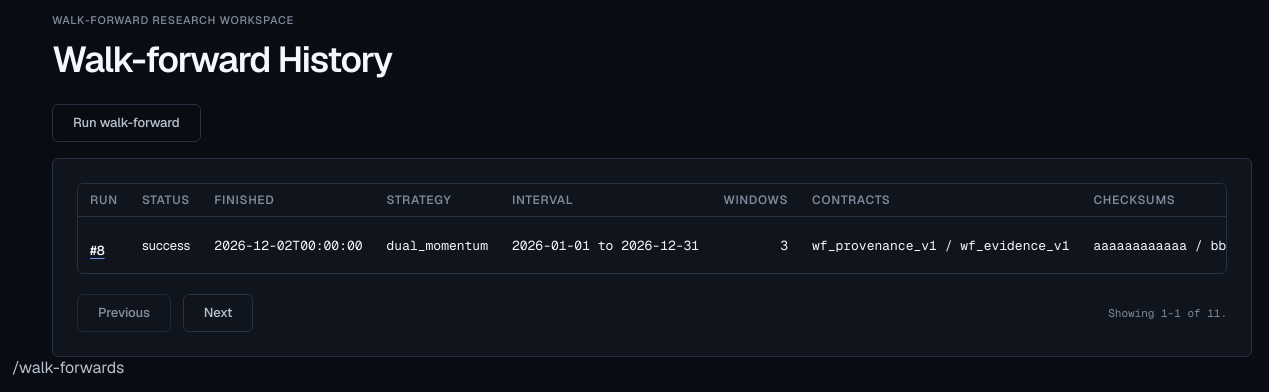
it: shows an explicit error and suppresses stale results after a failed request
Expected: the link "#8" is shown, [90,241,104,261]
Step 1. Click the button "Next" → x=218, y=313, box [183,294,253,332]
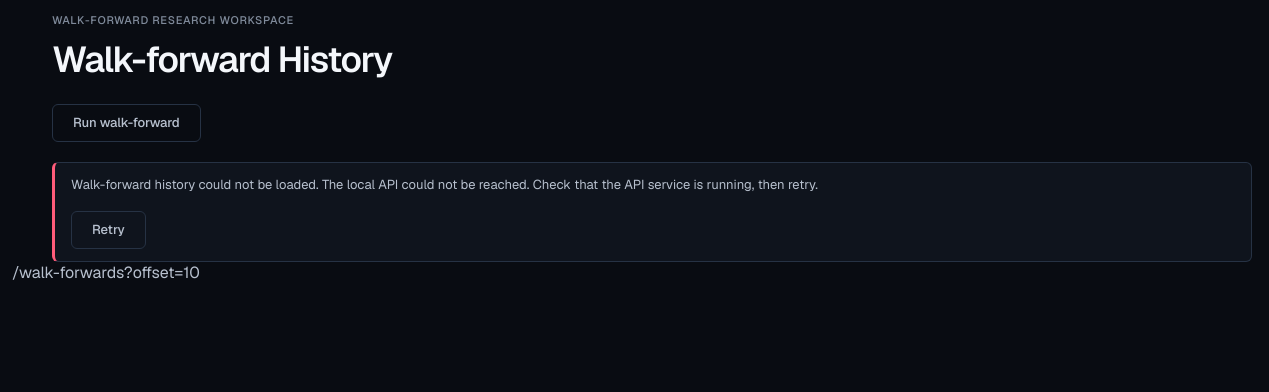
Expected: the message shows "The local API could not be reached", [322,176,818,193]
Expected: the link "#8" is gone
